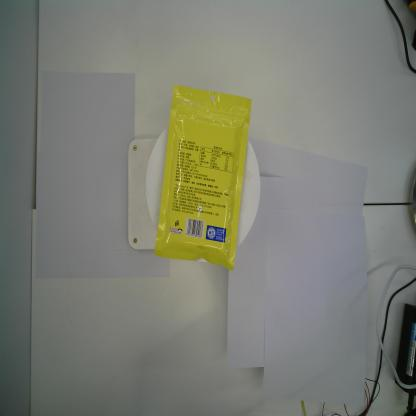Dried Fruit: (154, 84, 252, 272)
